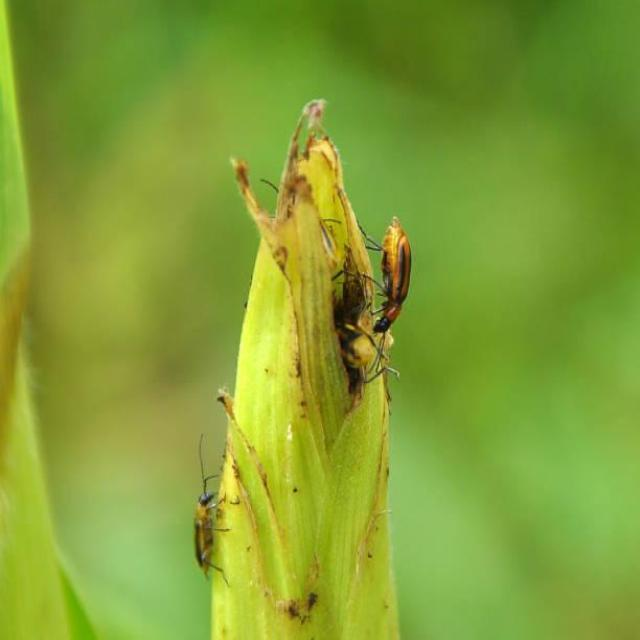trips: (360, 215, 411, 374), (192, 436, 232, 580)
